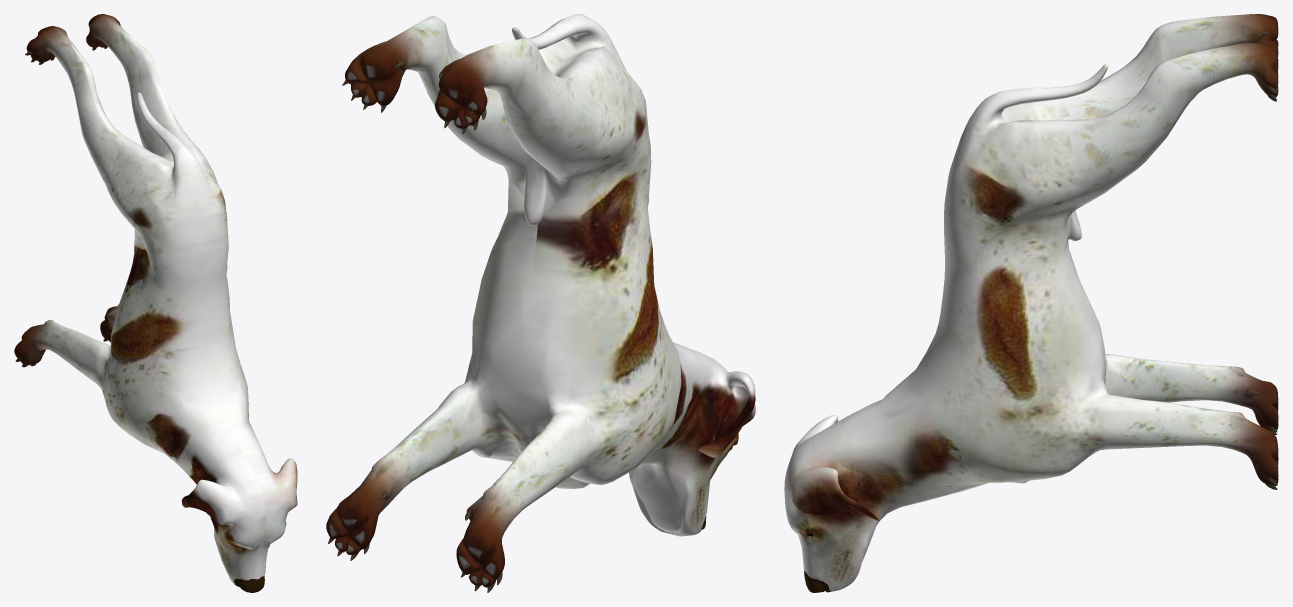
Rendered from Dog2.obj.
3 renders of one model, left to right at view 1: azimuth 30°, elevation 25°; view 2: azimuth 150°, elevation 25°; view 3: azimuth 270°, elevation 25°, orthographic. The views are drawn at different scales.
Bounding box in the file's own units: 1368 × 4992 × 3981.
Materials: 7 (4 with a texture image).
